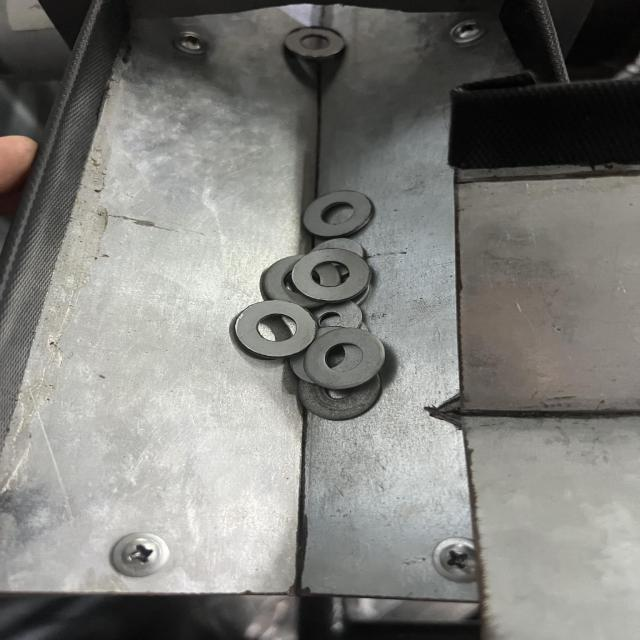washer: (304, 328, 386, 390), (233, 300, 312, 360), (293, 248, 375, 298)
